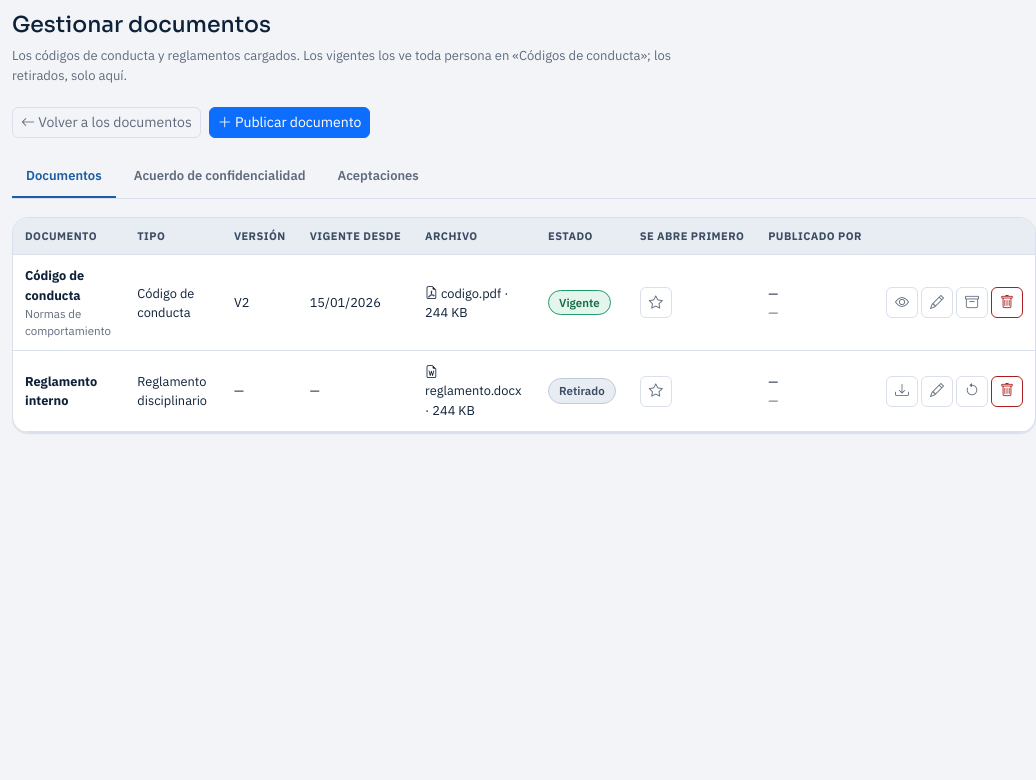
Gestionar documentos › configura el título y el texto del acuerdo
Click the tab "Acuerdo de confidencialidad". click: coordinates (220, 177)
box: [120, 156, 320, 198]
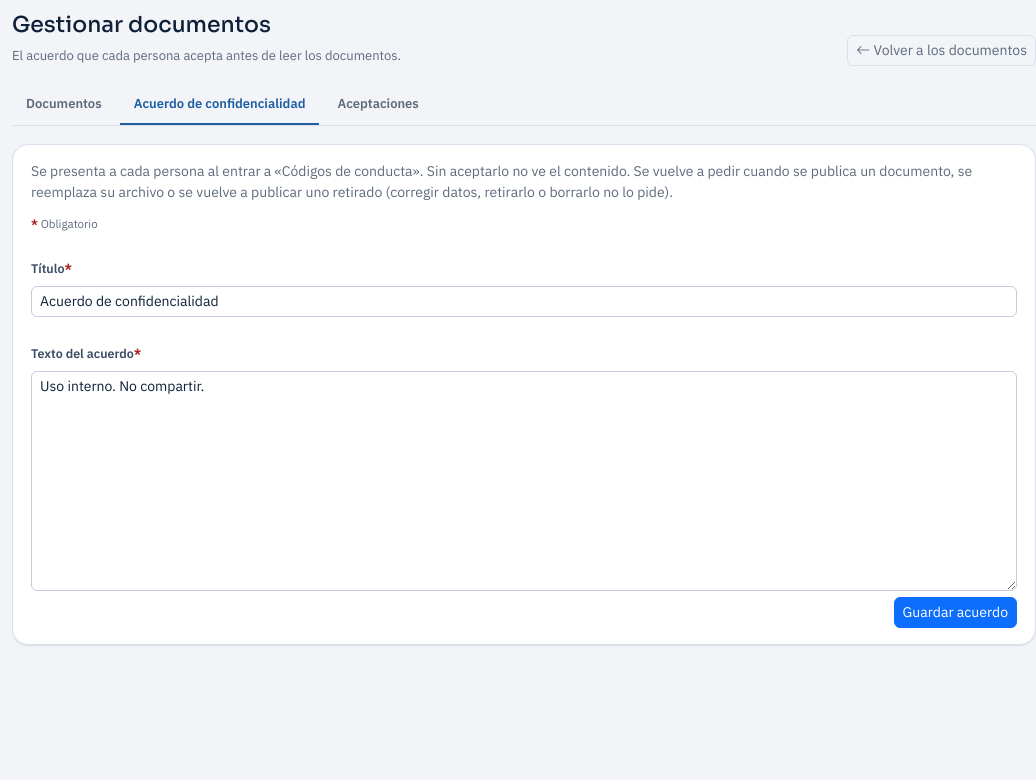
Replace the text in the field labelled "Título *" with "Compromiso de reserva". click: coordinates (524, 302)
box: [31, 286, 1017, 317]
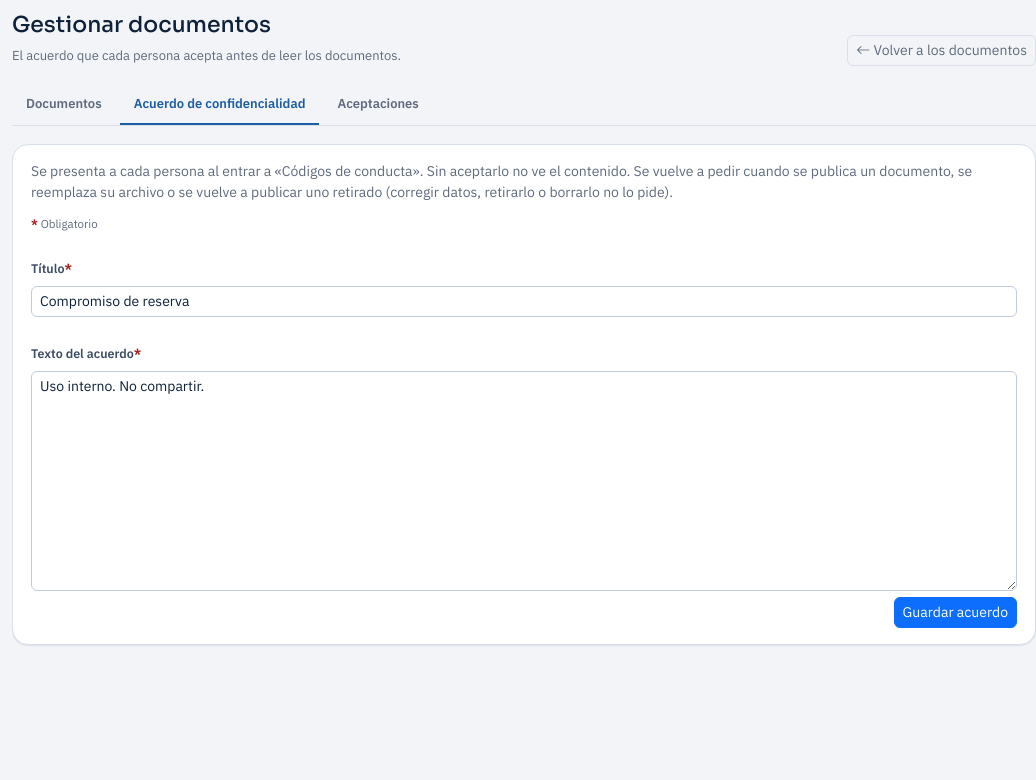
Click the button "Guardar acuerdo". click: coordinates (955, 612)
box: [894, 597, 1017, 628]
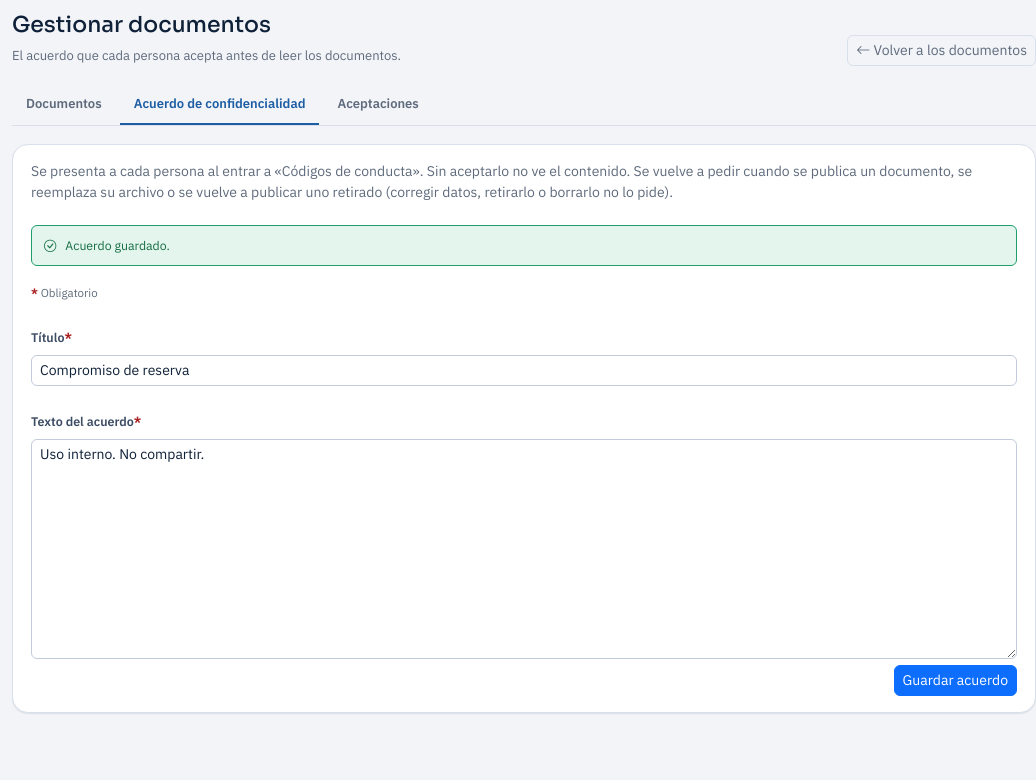
Result: the text "Acuerdo guardado." is shown at [31, 225, 1017, 266]
